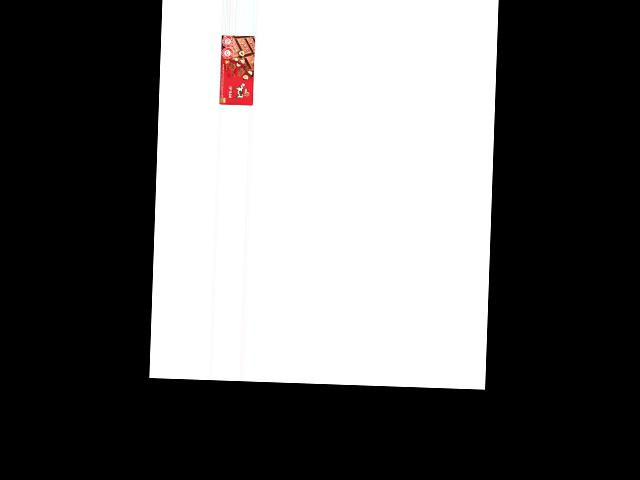chocolate: (218, 34, 255, 106)
